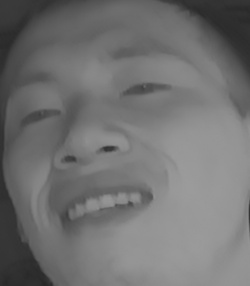eye: (114, 74, 174, 105), (12, 100, 66, 132)
mouth: (49, 174, 155, 239)
